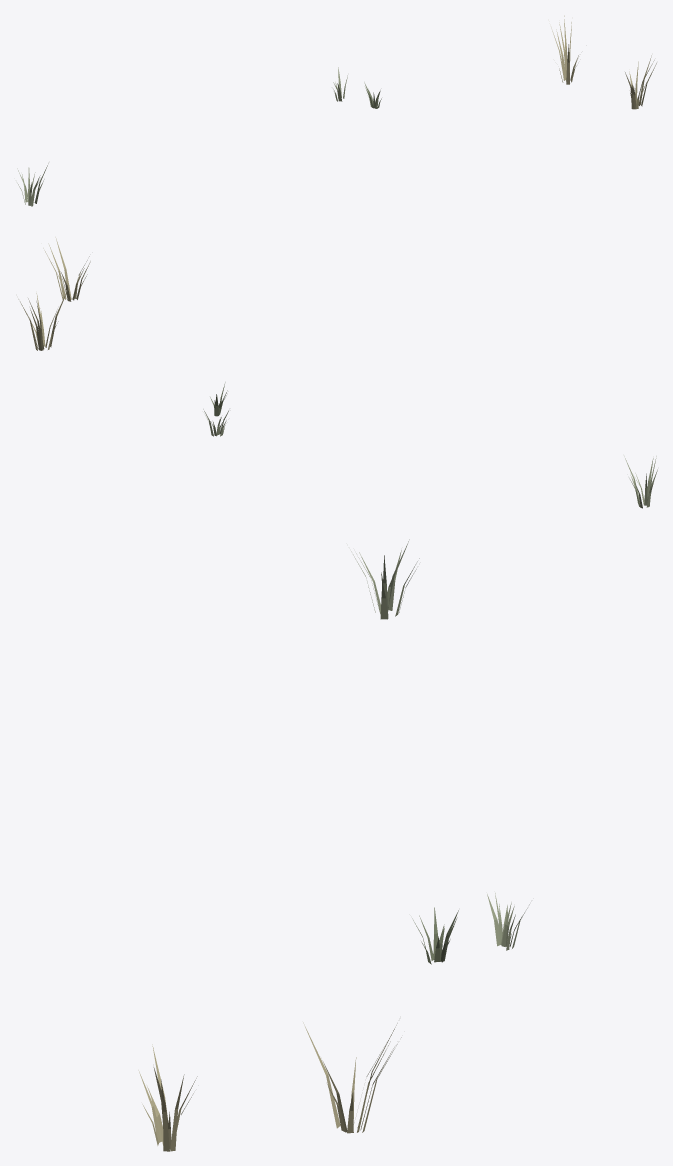
Rendered from AE_Grass_2_3.fbx.
3 renders of one model, top to bottom at view 1: azimuth 30°, elevation 25°; view 2: azimuth 150°, elevation 25°; view 3: azimuth 270°, elevation 25°, orthographic. The views are drawn at different scales.
Parts seen in each view (by area): view 1: AE_Grass_2_3_LOD0; view 2: AE_Grass_2_3_LOD0; view 3: AE_Grass_2_3_LOD0.
Boxes of the visible parts, left/top/right/bottom form: AE_Grass_2_3_LOD0: left=17, top=15, right=656, bottom=206; AE_Grass_2_3_LOD0: left=18, top=237, right=657, bottom=508; AE_Grass_2_3_LOD0: left=138, top=539, right=529, bottom=1151.
Size of what is drawn, in the model's own units: 916 by 83.1 by 270.
